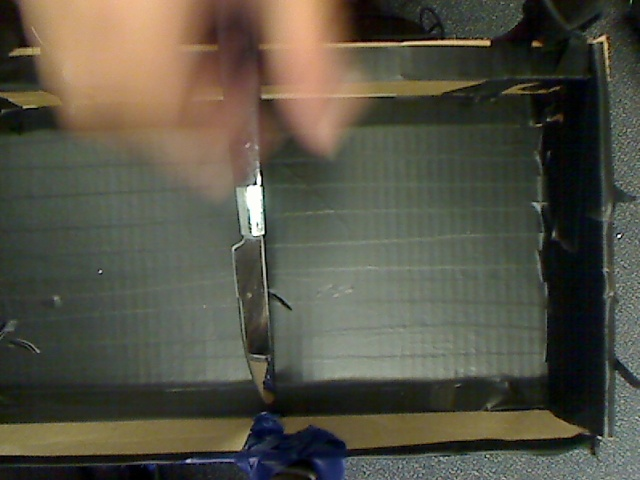knife: (199, 1, 303, 415)
